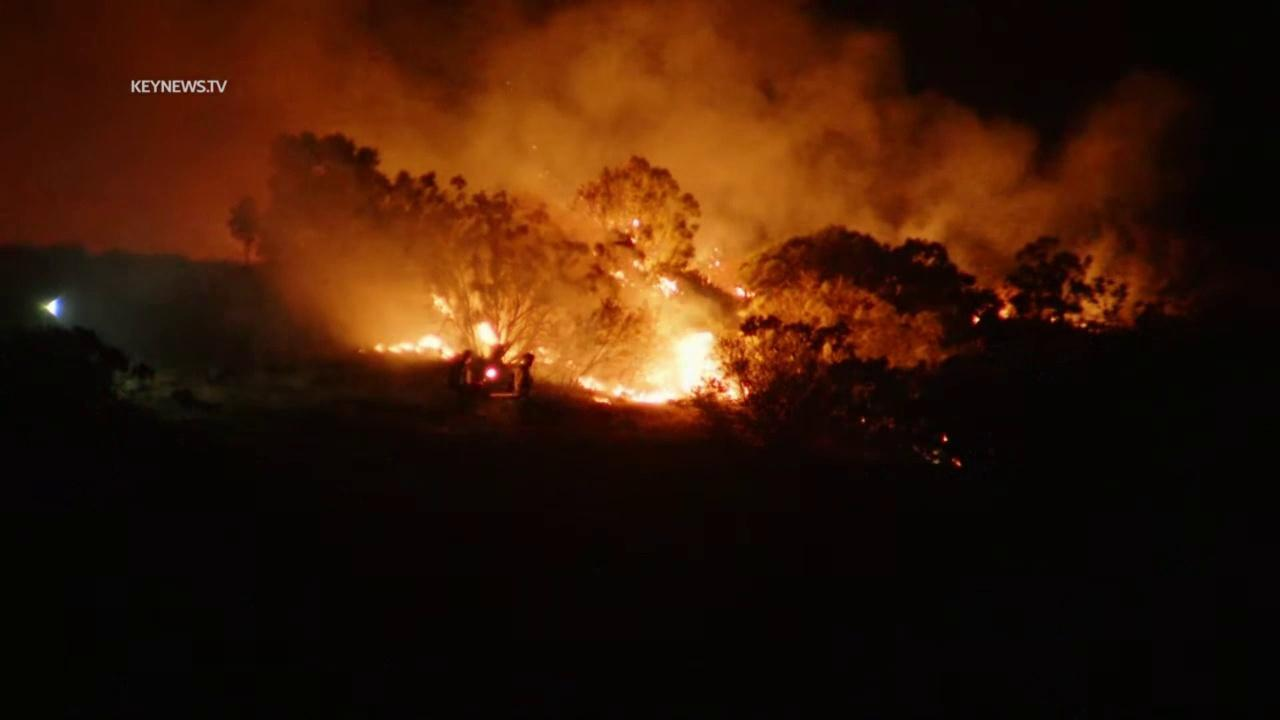fire: (575, 323, 751, 405), (372, 333, 457, 360), (430, 290, 458, 322), (476, 320, 505, 350), (654, 275, 683, 296), (998, 300, 1019, 320), (735, 286, 758, 300), (482, 365, 501, 381), (607, 268, 626, 281), (630, 233, 641, 245), (631, 217, 641, 230), (970, 314, 981, 324), (952, 458, 963, 467), (942, 432, 949, 444), (1078, 322, 1089, 329), (1048, 315, 1057, 323), (715, 260, 722, 268)
smoke: (0, 0, 1203, 411)
